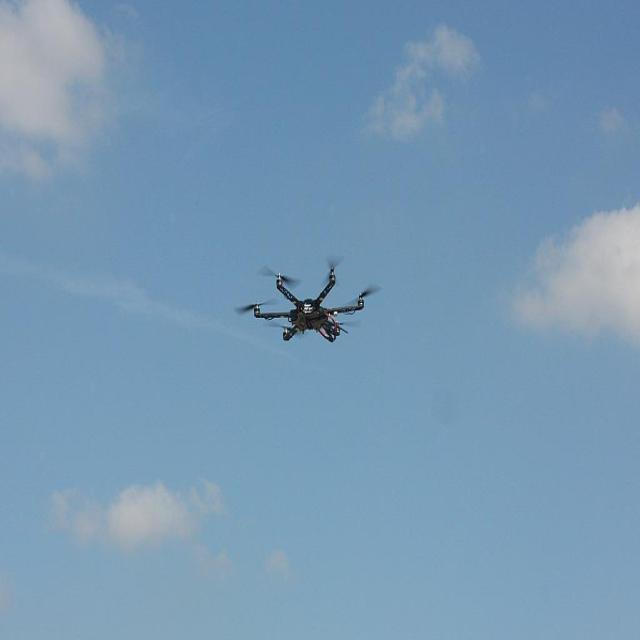drone: (235, 263, 380, 349)
